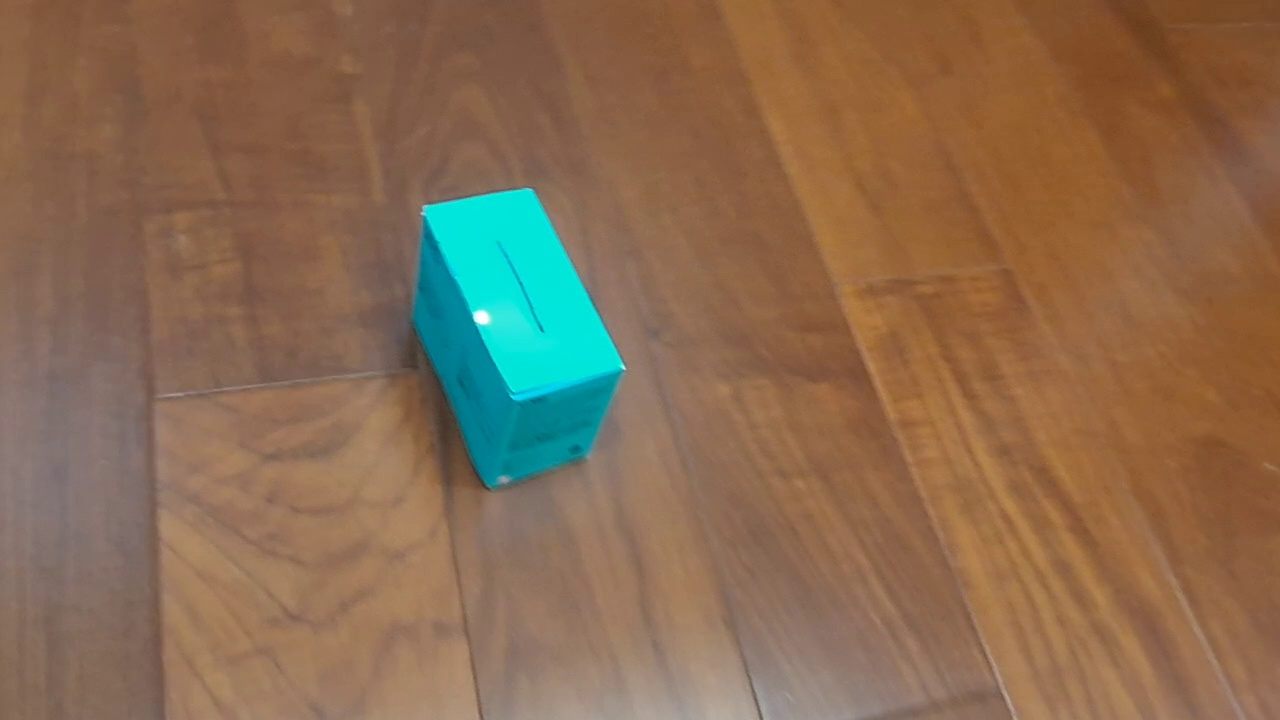webcam: (409, 187, 627, 491)
